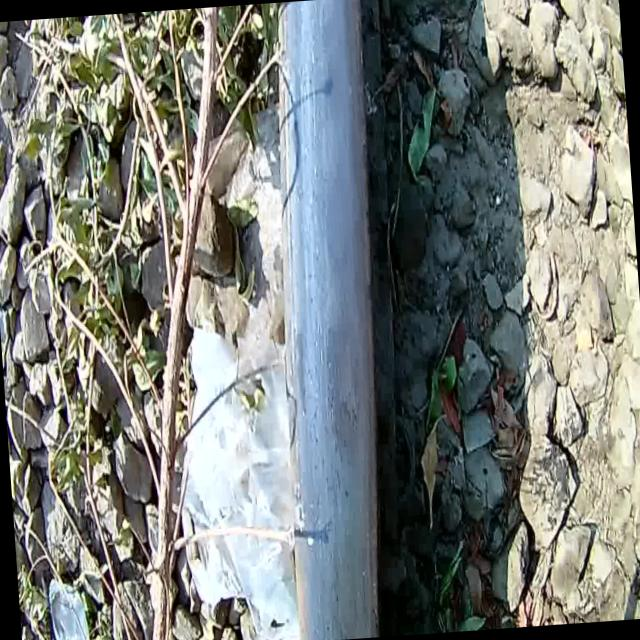Squats: (232, 0, 431, 640)
